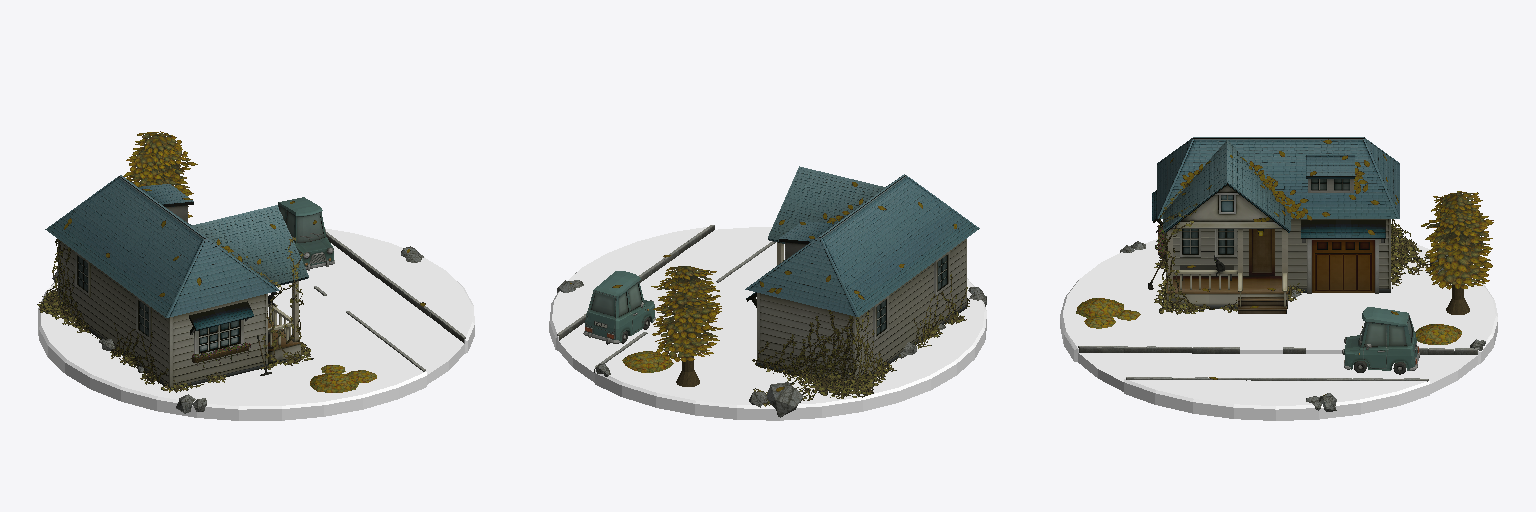
3 views of the same model, side by side, from view 1: azimuth 30°, elevation 25°; view 2: azimuth 150°, elevation 25°; view 3: azimuth 270°, elevation 25° (orthographic).
Visible parts, largest first — view 1: polySurface637_Mesh.232_lambert15, House_base_Mesh.064_House_part01_mat, polySurface197_Mesh.103_House_part01_mat, polySurface355_Mesh.023_lambert14, initialShadingGrouppolySurface116_polySurface3_Mesh.152_lambert1, House_window_01_Mesh.062_lambert16, polySurface226_Mesh.060_lambert16, polySurface243_Mesh.215_lambert14, House_smallroof_02_Mesh.026_lambert16, House_windows_06_Mesh.117_lambert16, House_windows_05_Mesh.228_lambert16, House_veranda_Mesh.231_lambert16; view 2: polySurface637_Mesh.232_lambert15, House_base_Mesh.064_House_part01_mat, polySurface355_Mesh.023_lambert14, polySurface197_Mesh.103_House_part01_mat, initialShadingGrouppolySurface116_polySurface3_Mesh.152_lambert1, polySurface276_Mesh.225_lambert14, polySurface250_Mesh.212_lambert14, House_smallroof_02_Mesh.026_lambert16, House_windows_05_Mesh.228_lambert16, House_windows_06_Mesh.117_lambert16; view 3: polySurface637_Mesh.232_lambert15, House_base_Mesh.064_House_part01_mat, polySurface355_Mesh.023_lambert14, polySurface197_Mesh.103_House_part01_mat, Garage_door_Mesh.063_lambert16, initialShadingGrouppolySurface116_polySurface3_Mesh.152_lambert1, House_veranda_Mesh.231_lambert16, polySurface179_Mesh.061_lambert16, House_roof_part_02_Mesh.116_lambert16, House_door_Mesh.027_lambert16, House_smallroof_02_Mesh.026_lambert16, polySurface250_Mesh.212_lambert14 (+6 smaller).
Boxes of the visible parts, <box> form: polySurface637_Mesh.232_lambert15: <box>38,228,474,420</box>; House_base_Mesh.064_House_part01_mat: <box>45,175,279,389</box>; polySurface197_Mesh.103_House_part01_mat: <box>191,205,308,286</box>; polySurface355_Mesh.023_lambert14: <box>123,131,197,217</box>; initialShadingGrouppolySurface116_polySurface3_Mesh.152_lambert1: <box>278,197,334,270</box>; House_window_01_Mesh.062_lambert16: <box>194,320,243,354</box>; polySurface226_Mesh.060_lambert16: <box>189,301,253,334</box>; polySurface243_Mesh.215_lambert14: <box>310,373,358,392</box>; House_smallroof_02_Mesh.026_lambert16: <box>138,184,193,206</box>; House_windows_06_Mesh.117_lambert16: <box>75,252,90,296</box>; House_windows_05_Mesh.228_lambert16: <box>136,296,151,341</box>; House_veranda_Mesh.231_lambert16: <box>268,318,300,364</box>; polySurface637_Mesh.232_lambert15: <box>549,227,986,420</box>; House_base_Mesh.064_House_part01_mat: <box>745,174,979,387</box>; polySurface355_Mesh.023_lambert14: <box>651,266,722,386</box>; polySurface197_Mesh.103_House_part01_mat: <box>768,166,885,243</box>; initialShadingGrouppolySurface116_polySurface3_Mesh.152_lambert1: <box>583,271,655,344</box>; polySurface276_Mesh.225_lambert14: <box>766,382,803,417</box>; polySurface250_Mesh.212_lambert14: <box>622,351,673,372</box>; House_smallroof_02_Mesh.026_lambert16: <box>779,221,834,243</box>; House_windows_05_Mesh.228_lambert16: <box>934,251,949,295</box>; House_windows_06_Mesh.117_lambert16: <box>873,296,888,340</box>; polySurface637_Mesh.232_lambert15: <box>1060,239,1497,420</box>; House_base_Mesh.064_House_part01_mat: <box>1157,137,1399,292</box>; polySurface355_Mesh.023_lambert14: <box>1421,191,1493,314</box>; polySurface197_Mesh.103_House_part01_mat: <box>1163,140,1290,232</box>; Garage_door_Mesh.063_lambert16: <box>1307,239,1378,293</box>; initialShadingGrouppolySurface116_polySurface3_Mesh.152_lambert1: <box>1342,307,1419,374</box>; House_veranda_Mesh.231_lambert16: <box>1167,276,1287,308</box>; polySurface179_Mesh.061_lambert16: <box>1301,220,1385,242</box>; House_roof_part_02_Mesh.116_lambert16: <box>1181,185,1273,221</box>; House_door_Mesh.027_lambert16: <box>1249,229,1274,275</box>; House_smallroof_02_Mesh.026_lambert16: <box>1306,155,1354,178</box>; polySurface250_Mesh.212_lambert14: <box>1415,324,1461,344</box>.
Bounding box in the file's own units: 0.5027 × 0.187 × 0.5043.
6 materials, 4 textured.